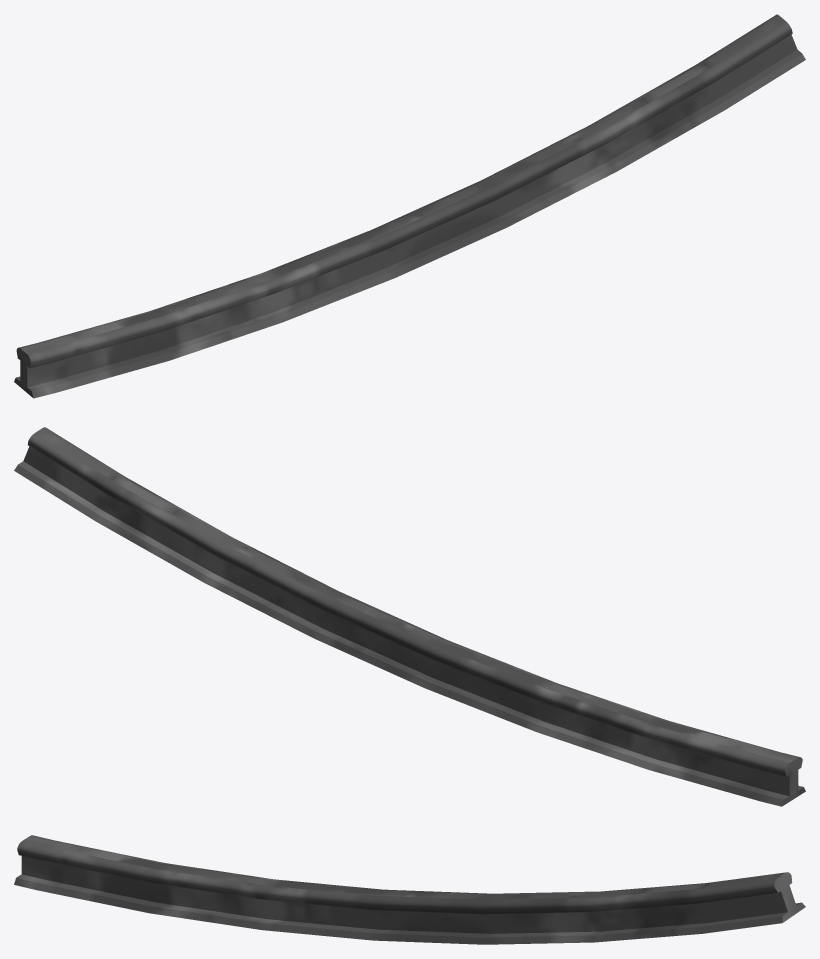
Rendered from Rail Piece 3.fbx.
The picture shows the model from 3 angles, top to bottom: view 1: azimuth 30°, elevation 25°; view 2: azimuth 150°, elevation 25°; view 3: azimuth 330°, elevation 25°; orthographic projection.
Parts seen in each view (by area): view 1: Rail_Piece_3; view 2: Rail_Piece_3; view 3: Rail_Piece_3.
Part boxes in pixels (left/top/right/bottom): Rail_Piece_3: left=14, top=14, right=805, bottom=398; Rail_Piece_3: left=14, top=427, right=805, bottom=806; Rail_Piece_3: left=14, top=835, right=805, bottom=944.
Bounding box in the file's own units: 349 × 80.25 × 17.57.
Materials: 1 (1 with a texture image).
